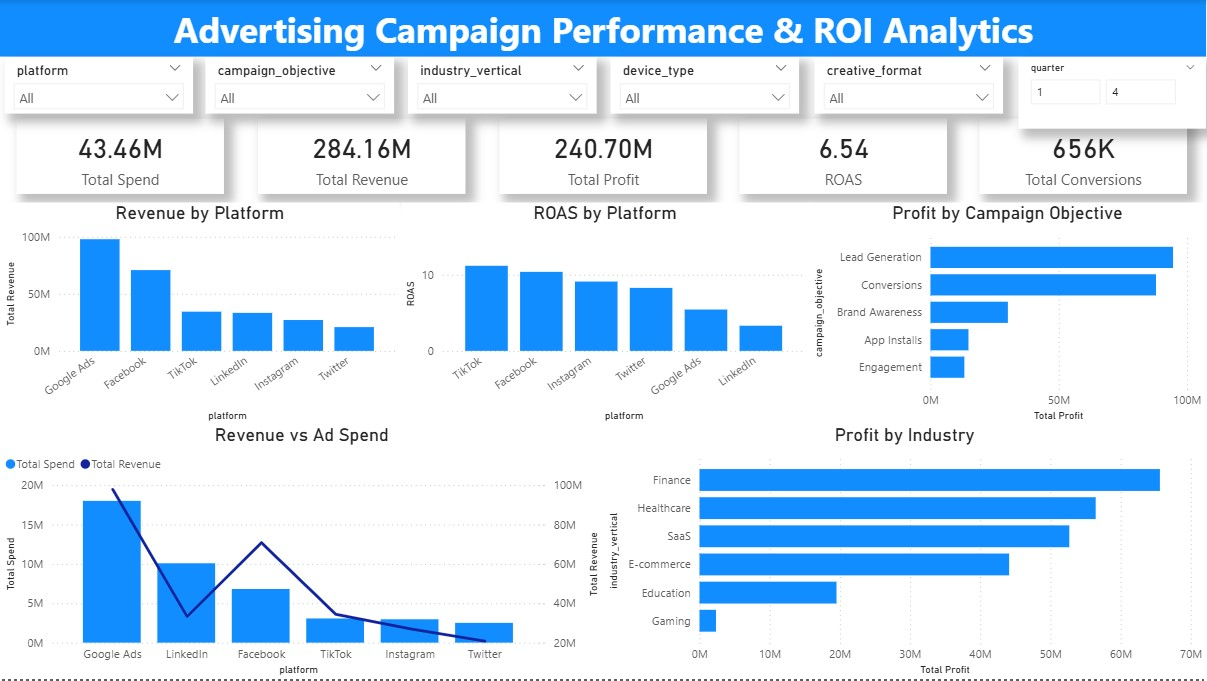

What the dashboard file says about the page in this screenshot:
{"tool":"powerbi","page":{"name":"Marketing Performance","canvas":[1280,720],"ordinal":0},"visuals":[{"type":"textbox","box":[0,0,1280,60],"z":0},{"type":"card","fields":{"Values":["tech_advertising_campaigns_dataset.Total Spend"]},"box":[18,126,220,80],"z":1000},{"type":"card","fields":{"Values":["tech_advertising_campaigns_dataset.Total Revenue"]},"box":[274,126,220,80],"z":2000},{"type":"card","fields":{"Values":["tech_advertising_campaigns_dataset.Total Profit"]},"box":[530,126,220,80],"z":3000},{"type":"card","fields":{"Values":["tech_advertising_campaigns_dataset.ROAS"]},"box":[784,126,220,80],"z":4000},{"type":"card","fields":{"Values":["tech_advertising_campaigns_dataset.Total Conversions"]},"box":[1038,126,220,80],"z":5000},{"type":"clusteredColumnChart","title":"Revenue by Platform","fields":{"Y":["tech_advertising_campaigns_dataset.Total Revenue"],"Category":["tech_advertising_campaigns_dataset.platform"]},"box":[0,214,424,236],"z":6000},{"type":"barChart","title":"Profit by Campaign Objective","fields":{"Category":["tech_advertising_campaigns_dataset.campaign_objective"],"Y":["tech_advertising_campaigns_dataset.Total Profit"]},"box":[858,214,422,236],"z":7000},{"type":"clusteredColumnChart","title":"ROAS by Platform","fields":{"Y":["tech_advertising_campaigns_dataset.ROAS"],"Category":["tech_advertising_campaigns_dataset.platform"]},"box":[424,214,434,236],"z":8000},{"type":"lineClusteredColumnComboChart","title":"Revenue vs Ad Spend","fields":{"Category":["tech_advertising_campaigns_dataset.platform"],"Y":["tech_advertising_campaigns_dataset.Total Spend"],"Y2":["tech_advertising_campaigns_dataset.Total Revenue"]},"box":[0,450,640,270],"z":9000},{"type":"slicer","fields":{"Values":["tech_advertising_campaigns_dataset.platform"]},"box":[4,60,200,60],"z":10000},{"type":"slicer","fields":{"Values":["tech_advertising_campaigns_dataset.campaign_objective"]},"box":[218,60,200,60],"z":11000},{"type":"slicer","fields":{"Values":["tech_advertising_campaigns_dataset.industry_vertical"]},"box":[432,60,200,60],"z":12000},{"type":"slicer","fields":{"Values":["tech_advertising_campaigns_dataset.device_type"]},"box":[648,60,200,60],"z":13000},{"type":"slicer","fields":{"Values":["tech_advertising_campaigns_dataset.creative_format"]},"box":[864,60,200,60],"z":14000},{"type":"slicer","fields":{"Values":["tech_advertising_campaigns_dataset.quarter"]},"box":[1080,60,200,76],"z":15000},{"type":"clusteredBarChart","title":"Profit by Industry","fields":{"Category":["tech_advertising_campaigns_dataset.industry_vertical"],"Y":["tech_advertising_campaigns_dataset.Total Profit"]},"box":[640,450,640,270],"z":16000}]}

Visuals, with their boxes in screenshot pixels (x1, y1, x2, y2), scaled from the page's 1280x720 canvas onto the 1207x681 screenshot:
textbox: [left=0, top=0, right=1206, bottom=57]
card - tech_advertising_campaigns_dataset.Total Spend: [left=17, top=119, right=224, bottom=195]
card - tech_advertising_campaigns_dataset.Total Revenue: [left=258, top=119, right=466, bottom=195]
card - tech_advertising_campaigns_dataset.Total Profit: [left=500, top=119, right=707, bottom=195]
card - tech_advertising_campaigns_dataset.ROAS: [left=739, top=119, right=947, bottom=195]
card - tech_advertising_campaigns_dataset.Total Conversions: [left=979, top=119, right=1186, bottom=195]
"Revenue by Platform" clusteredColumnChart: [left=0, top=202, right=400, bottom=426]
"Profit by Campaign Objective" barChart: [left=809, top=202, right=1206, bottom=426]
"ROAS by Platform" clusteredColumnChart: [left=400, top=202, right=809, bottom=426]
"Revenue vs Ad Spend" lineClusteredColumnComboChart: [left=0, top=426, right=604, bottom=680]
slicer - tech_advertising_campaigns_dataset.platform: [left=4, top=57, right=192, bottom=114]
slicer - tech_advertising_campaigns_dataset.campaign_objective: [left=206, top=57, right=394, bottom=114]
slicer - tech_advertising_campaigns_dataset.industry_vertical: [left=407, top=57, right=596, bottom=114]
slicer - tech_advertising_campaigns_dataset.device_type: [left=611, top=57, right=800, bottom=114]
slicer - tech_advertising_campaigns_dataset.creative_format: [left=815, top=57, right=1003, bottom=114]
slicer - tech_advertising_campaigns_dataset.quarter: [left=1018, top=57, right=1206, bottom=129]
"Profit by Industry" clusteredBarChart: [left=604, top=426, right=1206, bottom=680]
